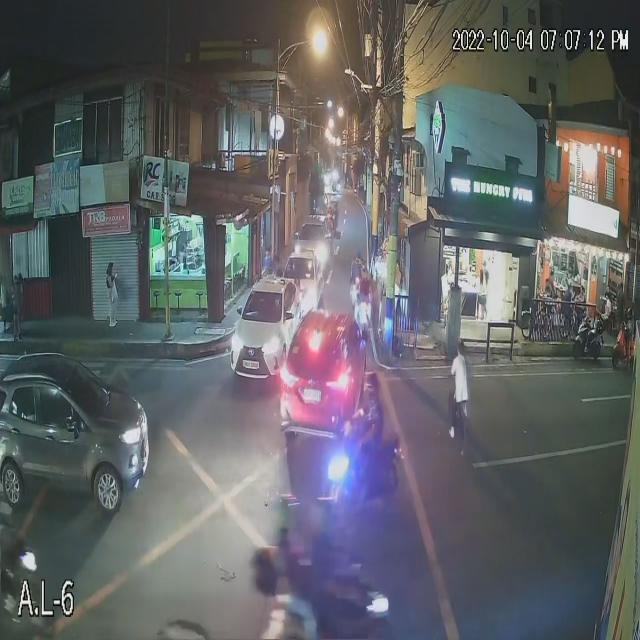helmet: (356, 371, 384, 405)
motorcycle: (328, 436, 408, 511), (573, 313, 606, 361), (613, 313, 639, 372)
rider: (350, 408, 383, 500)
